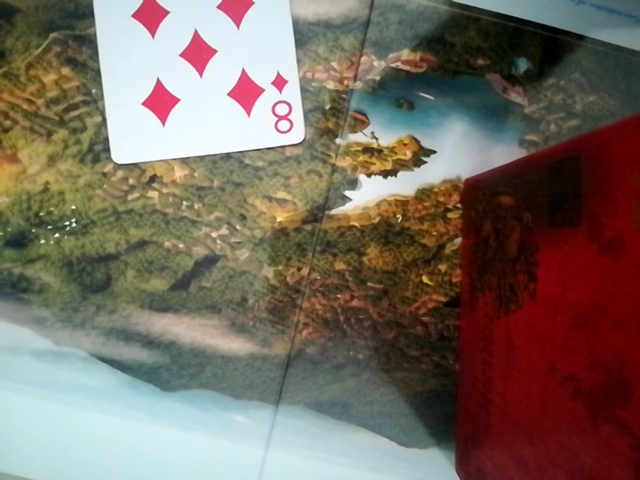fk 8: (82, 0, 301, 165)
